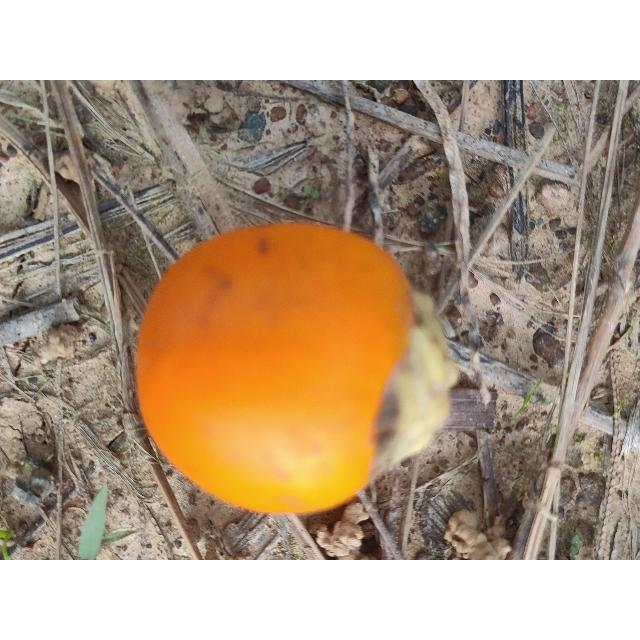good: (134, 222, 459, 517)
